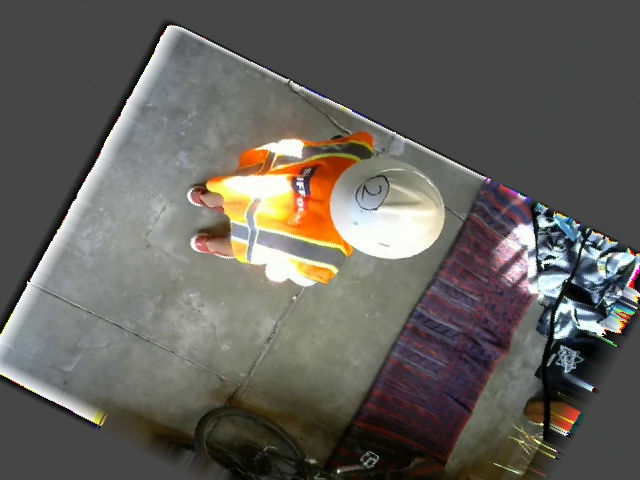two: (349, 167, 395, 215)
